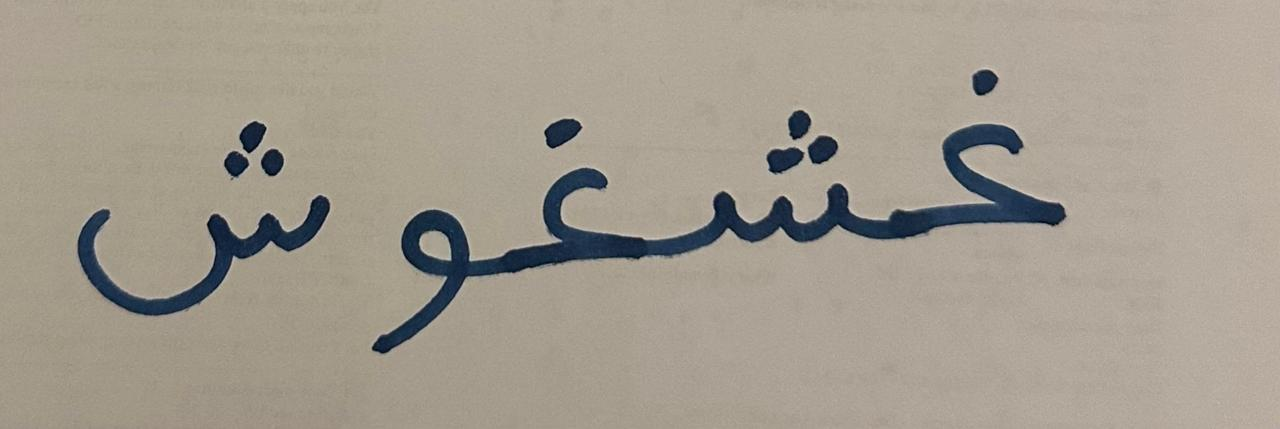ghain: (875, 25, 1105, 300), (504, 81, 676, 325)
tah: (26, 58, 344, 332), (679, 46, 872, 308)
yeh: (348, 147, 501, 367)
